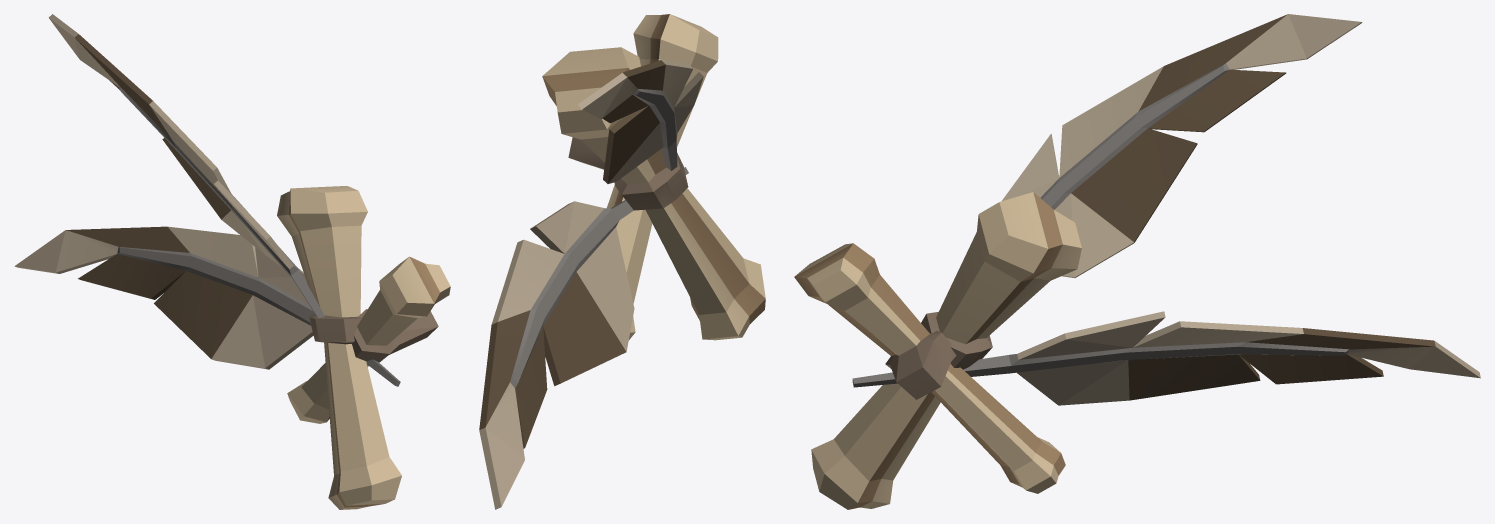
The model's file is SM_Item_Bones.fbx.
3 views of the same model, side by side, from view 1: azimuth 30°, elevation 25°; view 2: azimuth 150°, elevation 25°; view 3: azimuth 270°, elevation 25° (orthographic). The views are drawn at different scales.
Visible parts, largest first — view 1: SM_Item_Bones; view 2: SM_Item_Bones; view 3: SM_Item_Bones.
Part boxes in pixels (bbox=[...]): SM_Item_Bones: bbox=[14, 14, 450, 509]; SM_Item_Bones: bbox=[479, 14, 765, 509]; SM_Item_Bones: bbox=[794, 14, 1480, 509].
Bounding box in the file's own units: 14.89 × 26.64 × 37.98.
